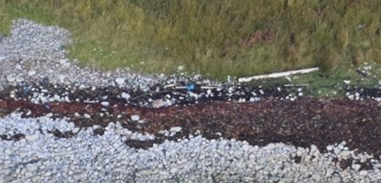straight_bar: (236, 58, 323, 90)
white_in_green: (176, 70, 208, 100)
